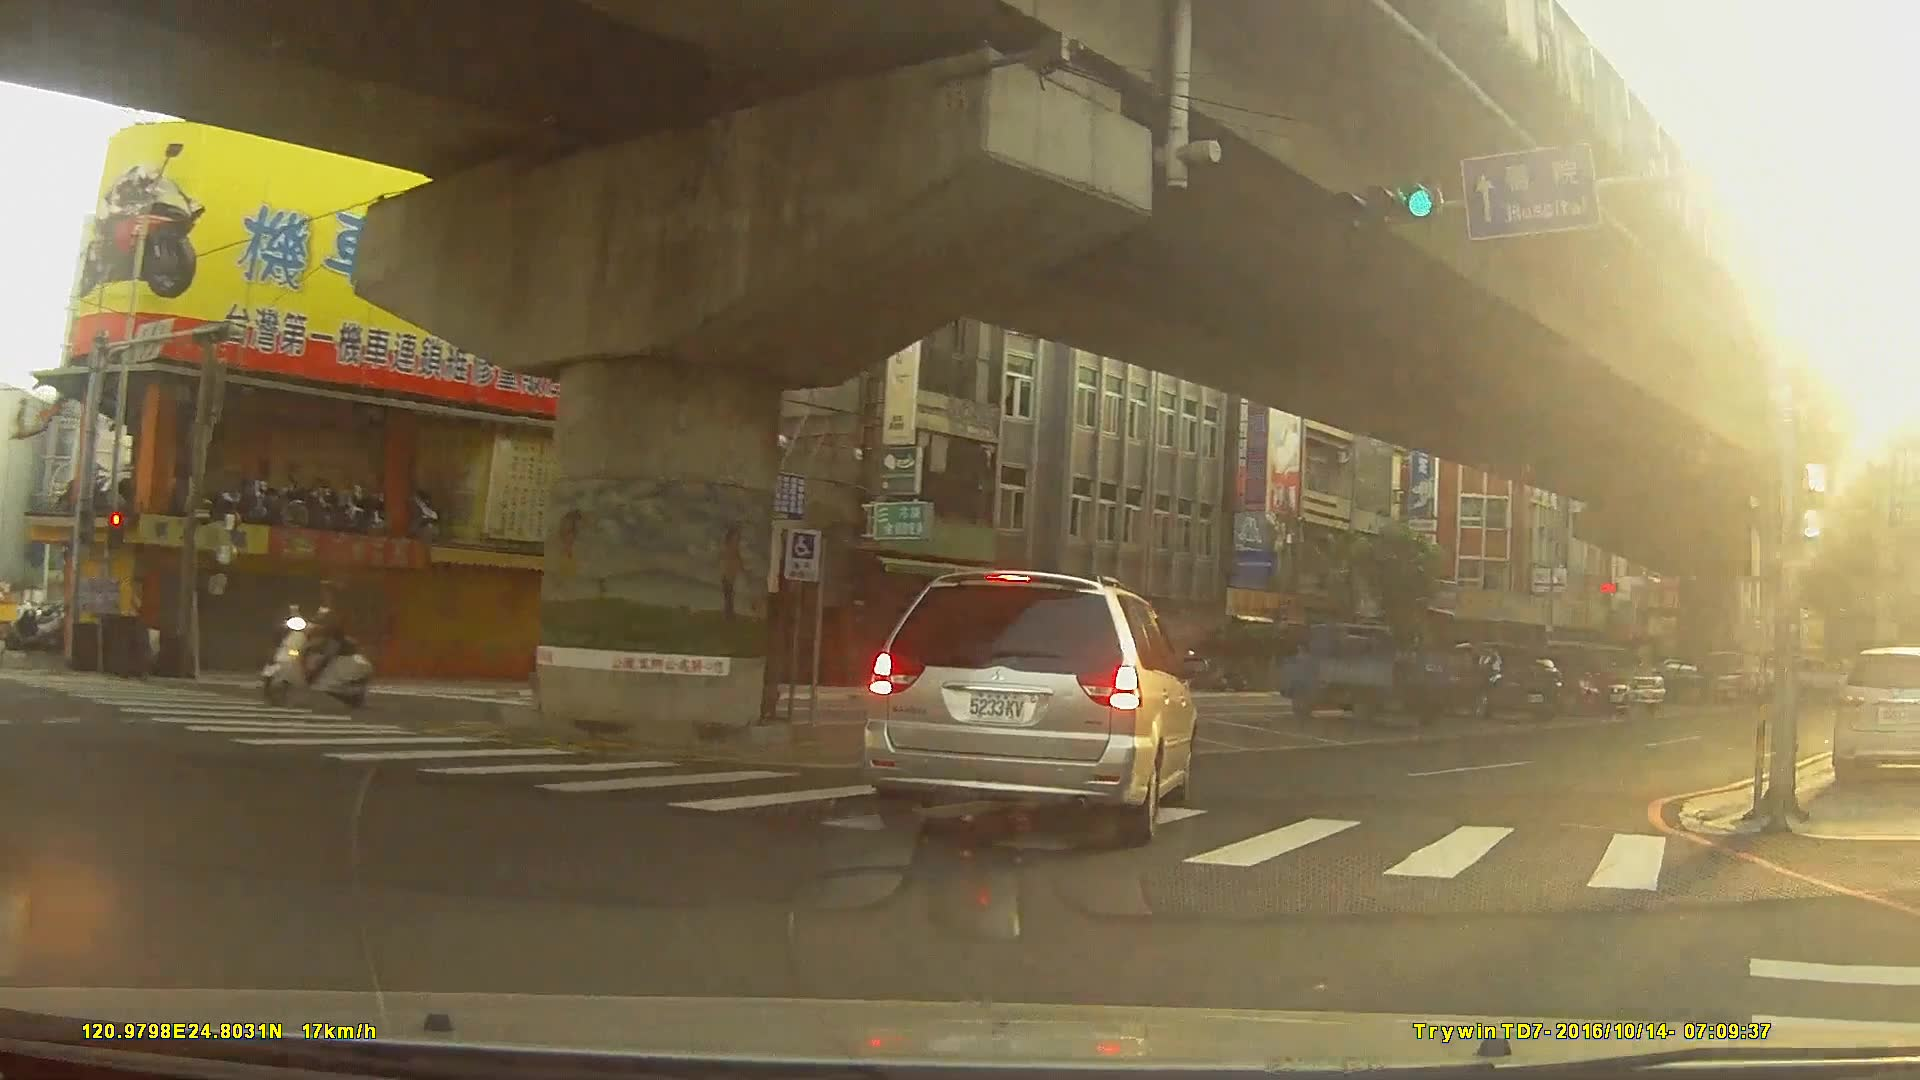rider: (265, 577, 380, 707)
vehicle: (859, 564, 1198, 846), (1273, 620, 1475, 729), (1831, 639, 1920, 780), (1428, 636, 1564, 719), (1512, 649, 1635, 717), (1634, 656, 1715, 699)
